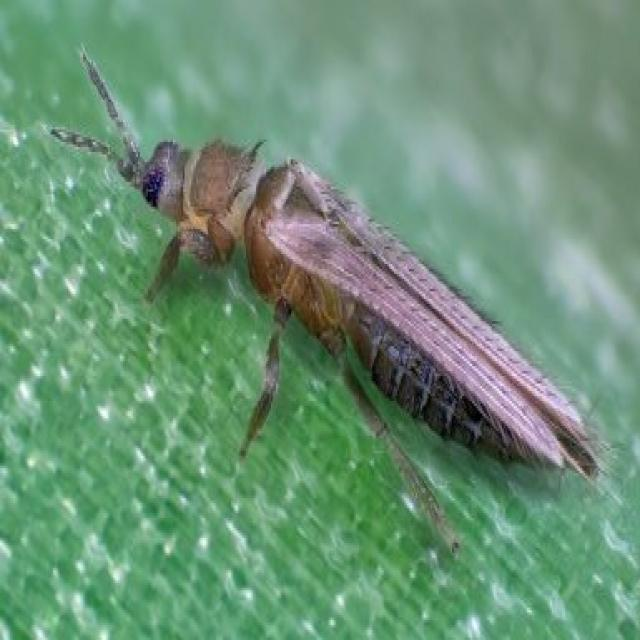Thrip-Adult-: (54, 40, 608, 542)
